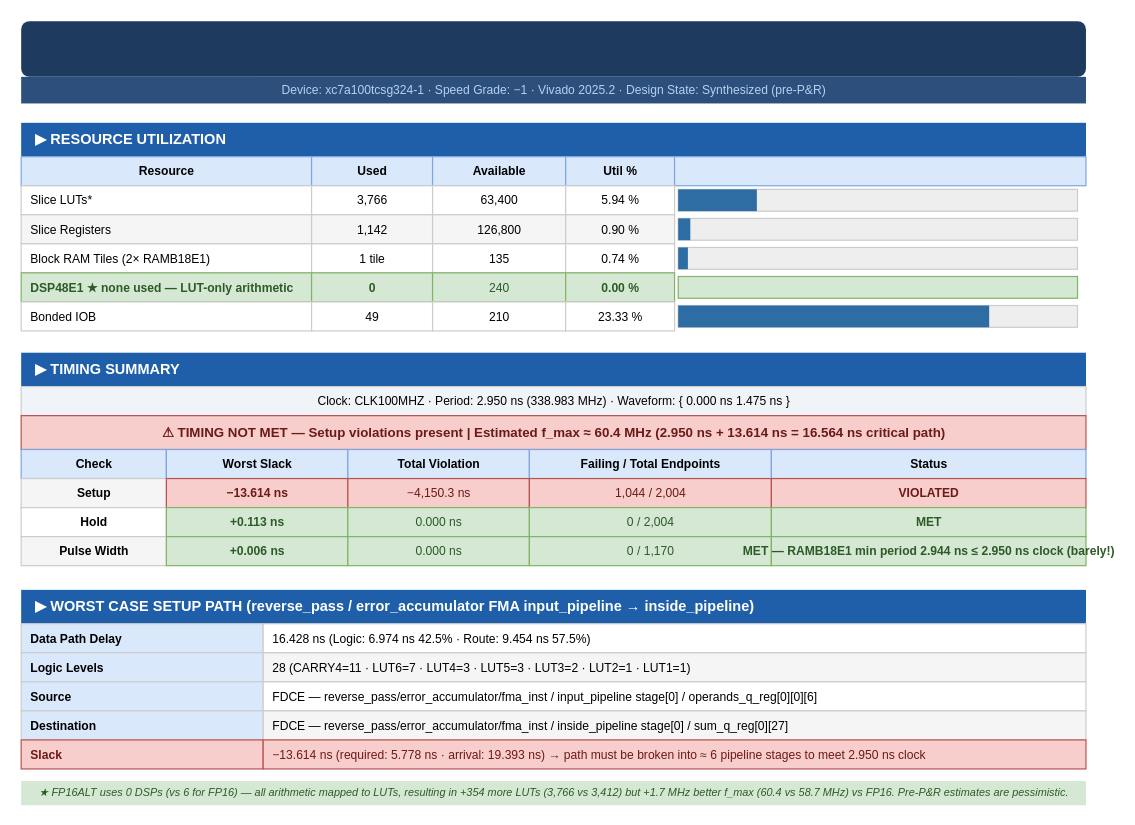
Some shapes in this 1135 by 825 pixel diagram are drawn without their labels. Here are the shapes that lost their labels. From the top down, the centre of each, then its label:
point 553,48: FP16ALT — Polynomial Regression Synthesis Summary
point 879,170: Usage Bar (full bar = 30 %)
